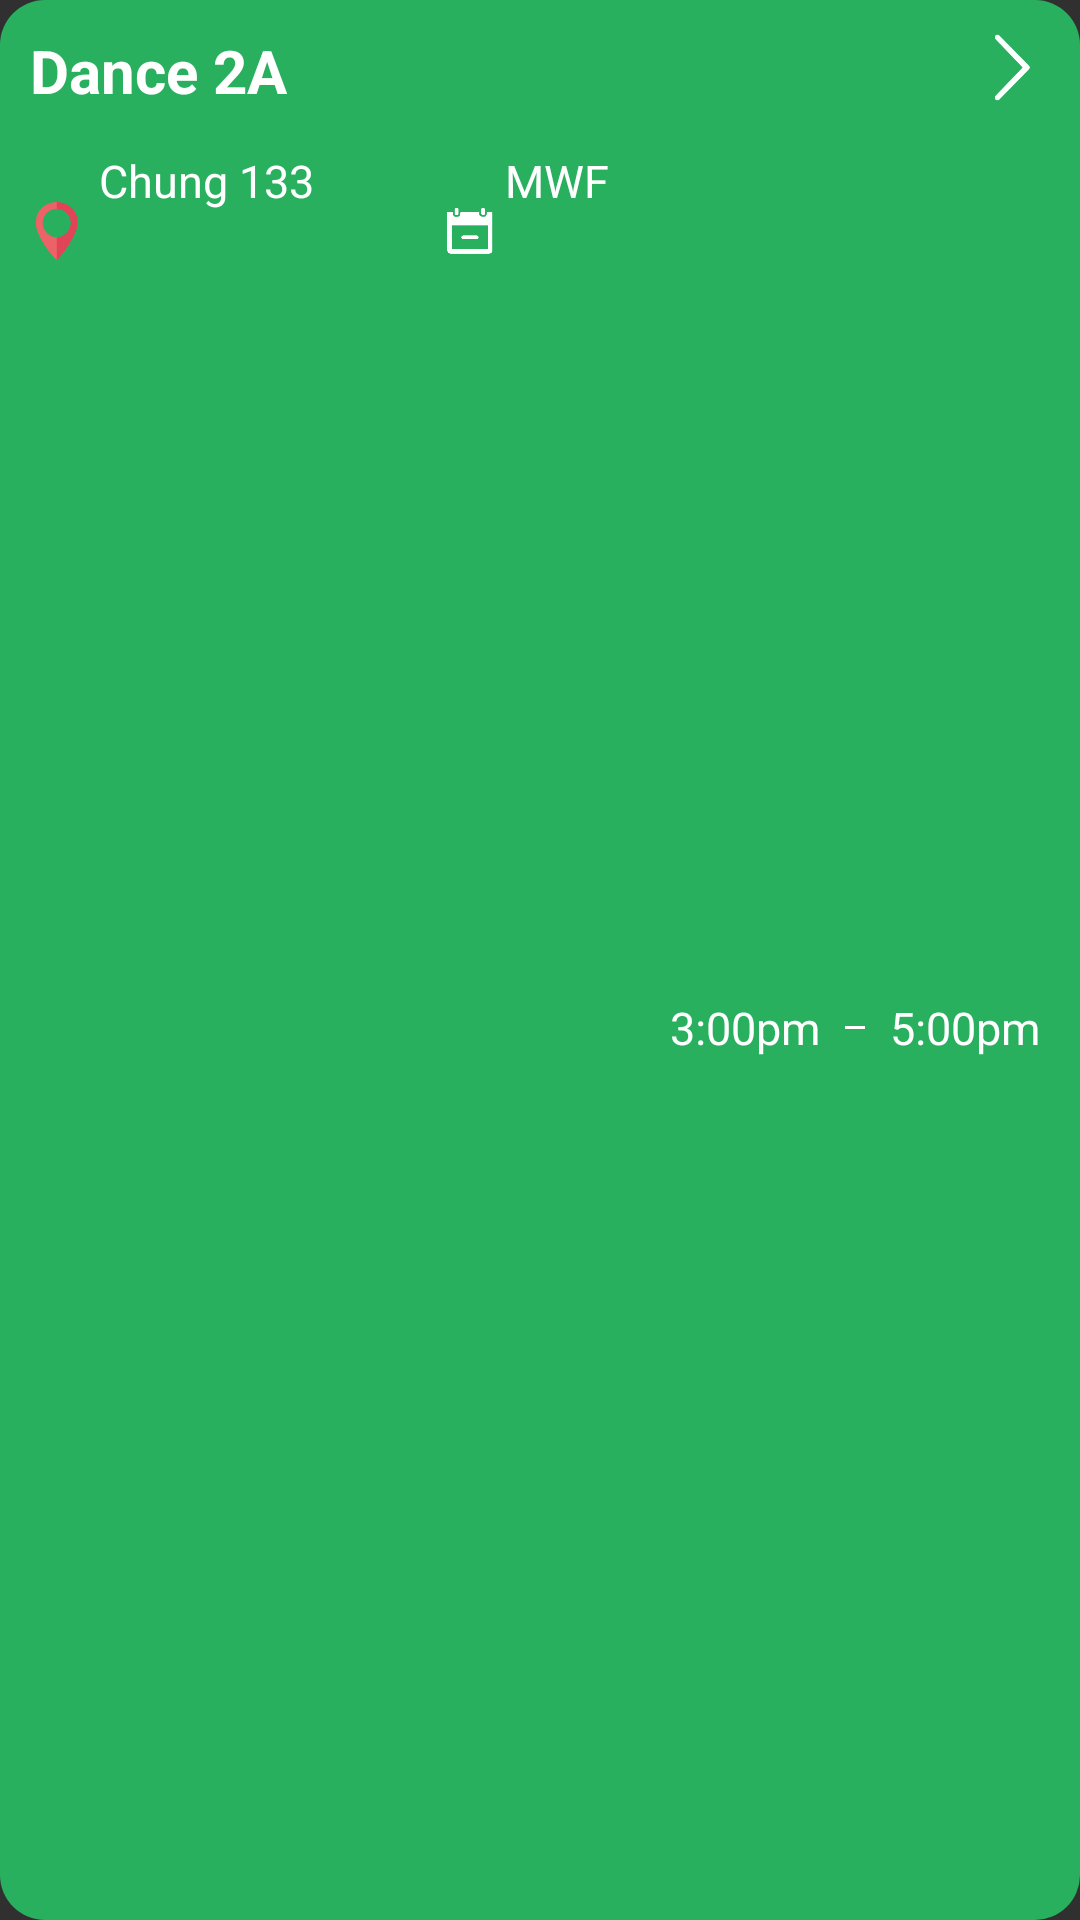

Icon click points for this 1080*1920 phone screenshot, format [x,y]:
chevron: [1012,67]
